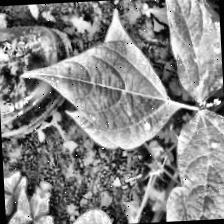Bean Rust: (20, 39, 163, 149), (156, 0, 224, 104), (175, 110, 224, 220)
